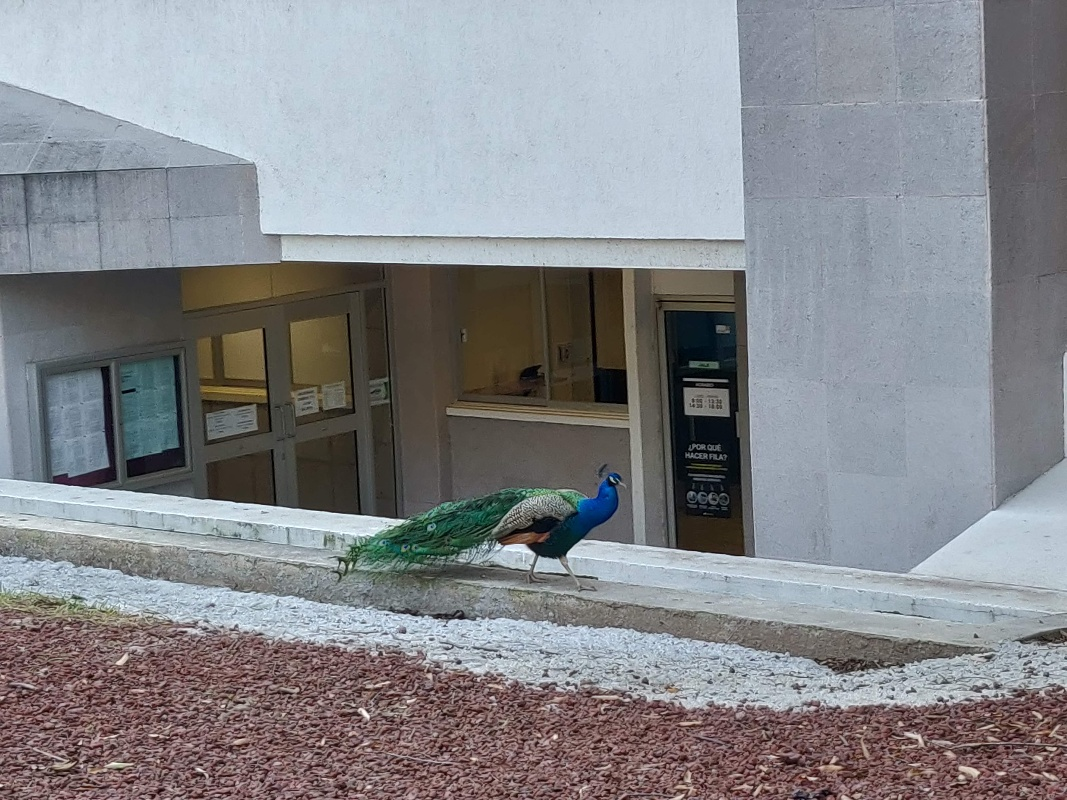pavoreal: (424, 468, 627, 562)
